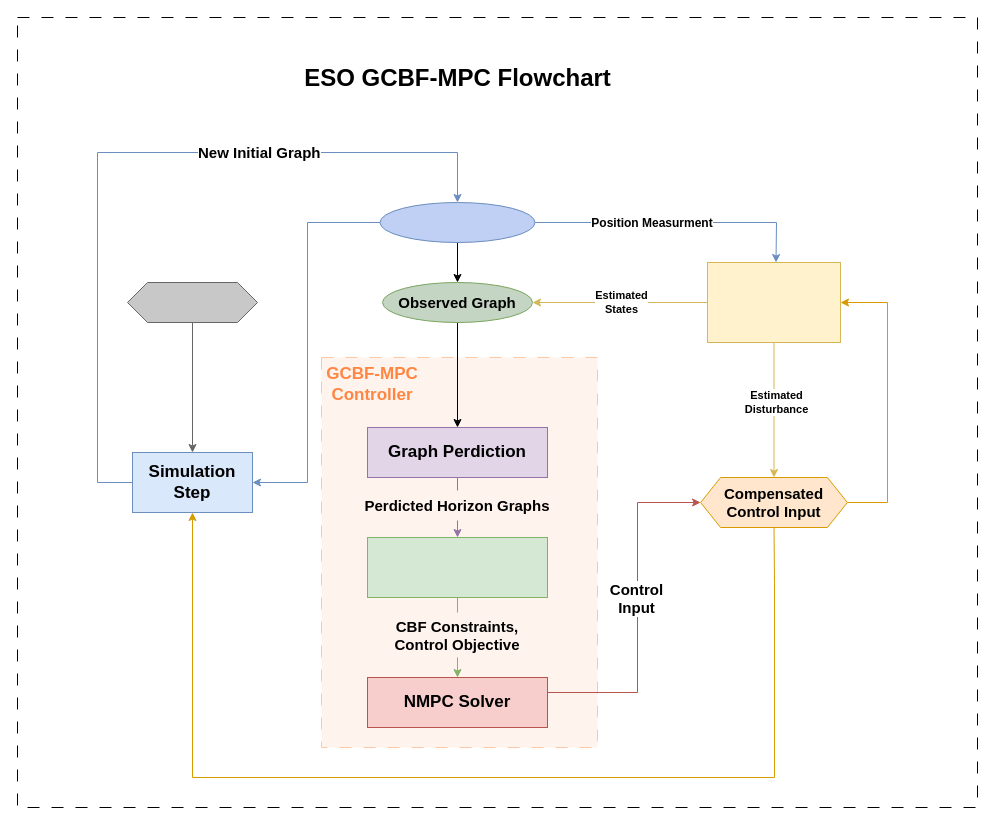
Image size: 995x825. Some labels were removed from this diagram. Here are the shapes that lost their labels. From the top down, the centre of each, then its label:
At (457,222): "MAS Initial Graph".
At (192,302): "Disturbance".
At (773,302): "Extended State Observer".
At (457,567): "Trained Model Evaluator".
